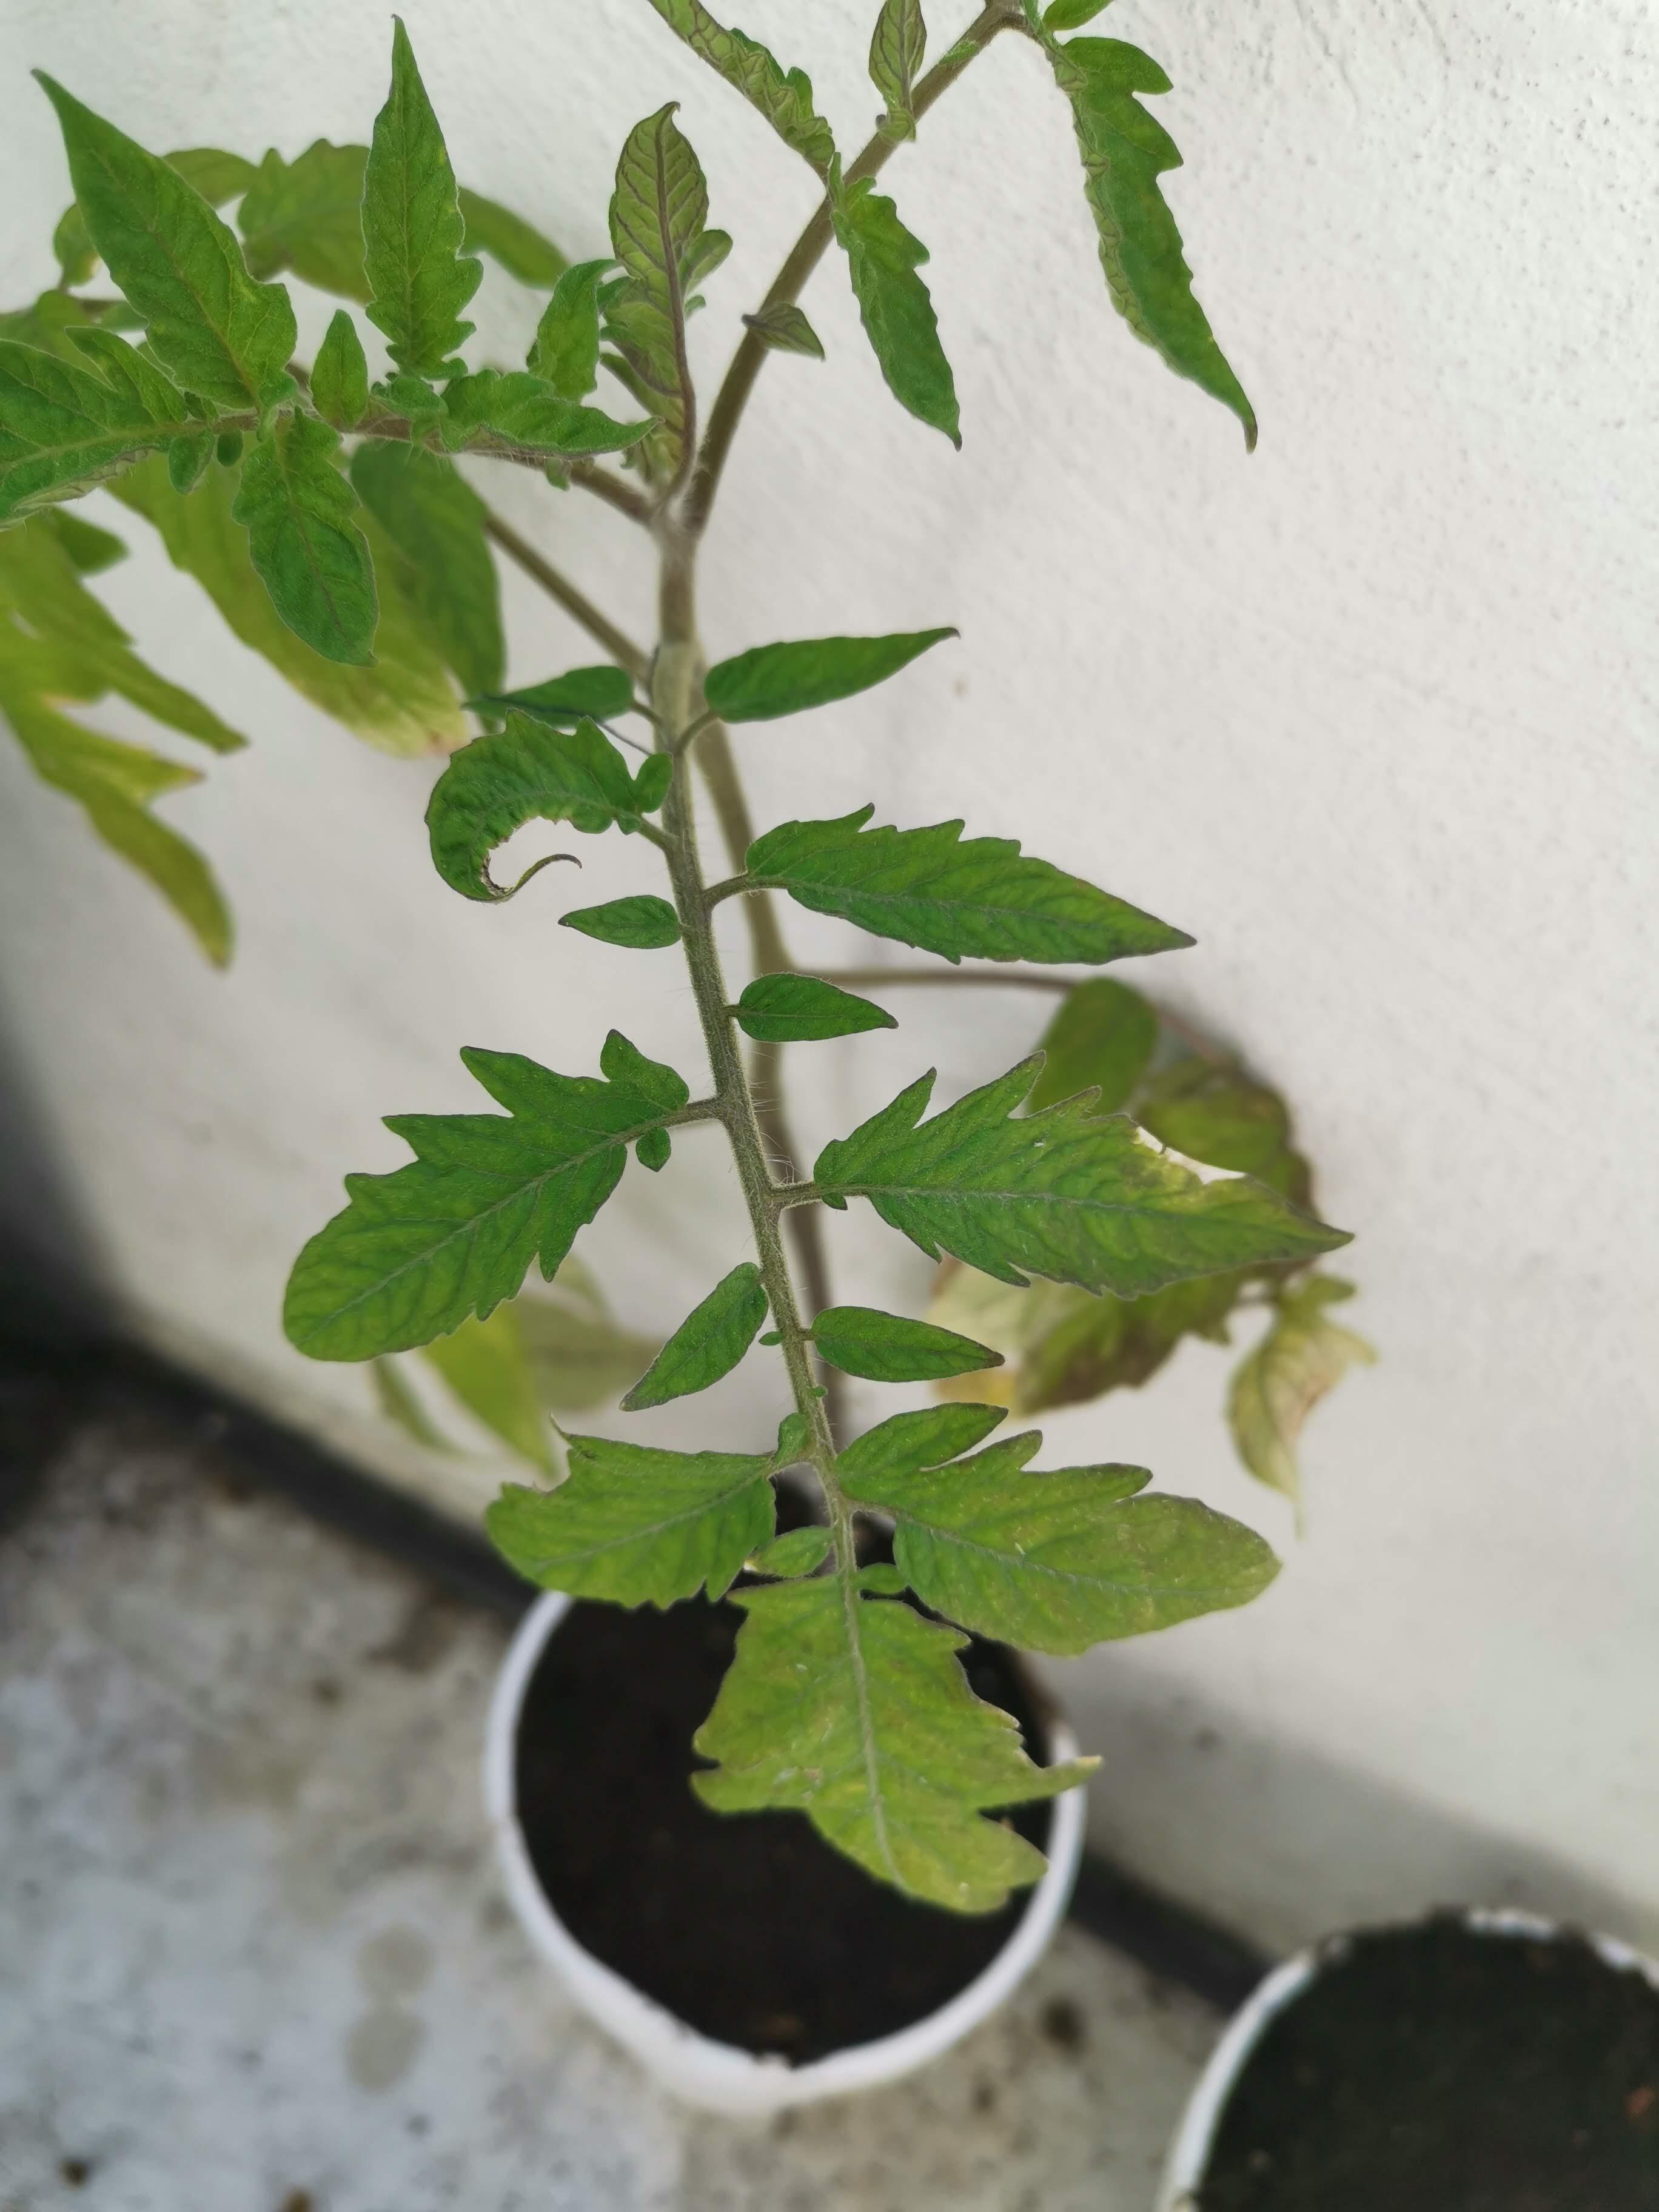Rugose leaf: (690, 1564, 1107, 1912), (812, 1049, 1356, 1299), (281, 1031, 690, 1364), (831, 1402, 1283, 1656), (1021, 0, 1260, 460), (31, 70, 300, 409), (742, 801, 1201, 967), (479, 1413, 810, 1613), (423, 709, 676, 902), (605, 106, 730, 467), (0, 326, 216, 528), (828, 153, 965, 448), (401, 371, 666, 469), (619, 1263, 770, 1411), (810, 1306, 1007, 1381), (305, 308, 373, 435)
Rugose stem: (664, 737, 854, 1575)
